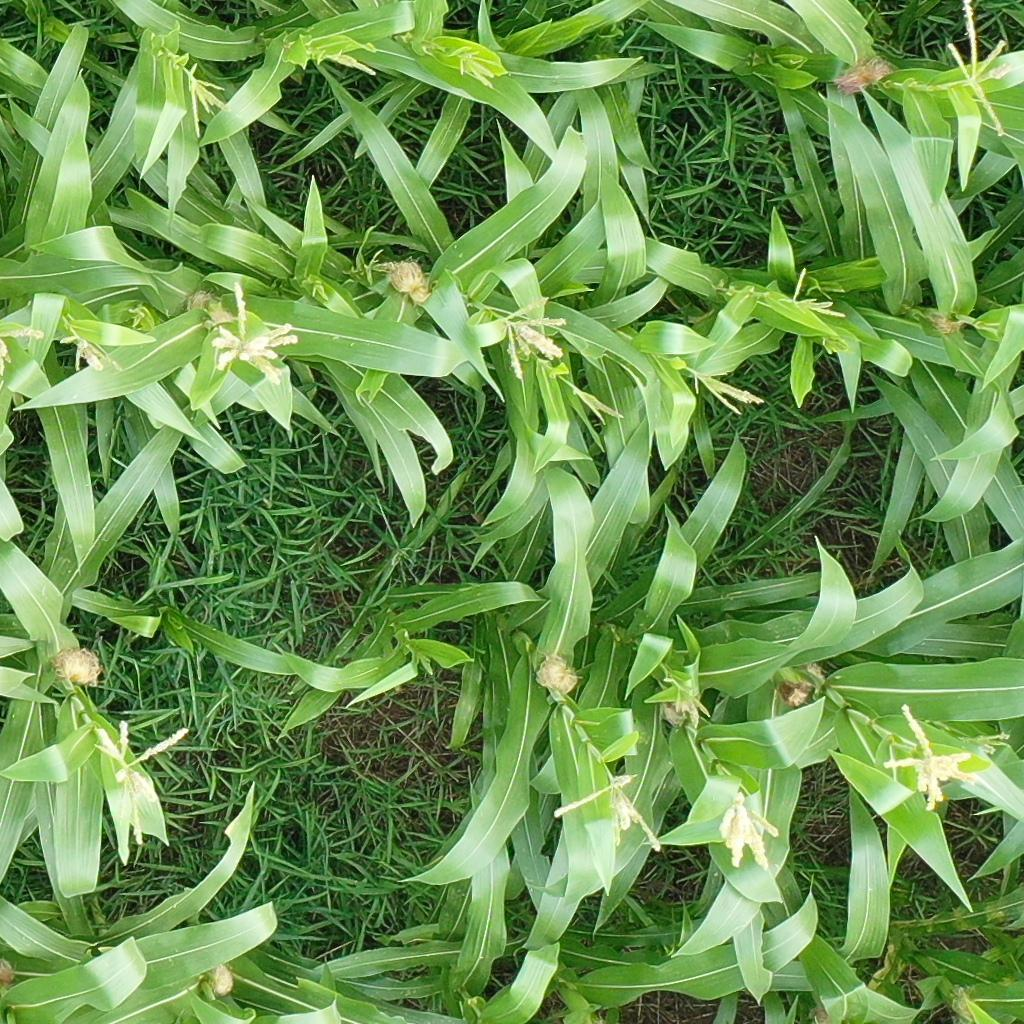Tassel: (92, 721, 191, 846), (883, 702, 977, 813), (207, 281, 298, 387), (554, 770, 663, 855), (945, 1, 1011, 139), (498, 297, 567, 379), (719, 793, 782, 871), (693, 363, 763, 416), (185, 63, 233, 139), (787, 267, 850, 317), (58, 329, 121, 374), (664, 675, 713, 728), (456, 49, 504, 95), (1, 327, 46, 376), (317, 45, 377, 76), (577, 390, 625, 428), (964, 732, 1011, 755), (365, 249, 389, 274), (311, 280, 331, 303), (825, 339, 846, 354), (128, 305, 147, 319)
